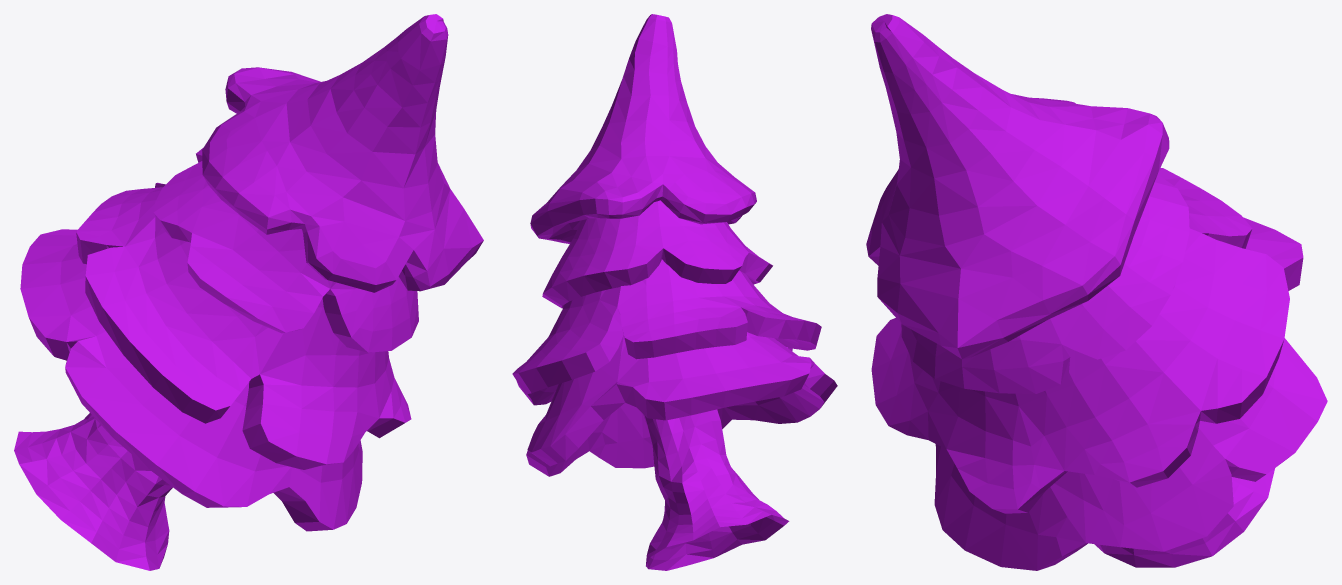
File: meowverse_tree2.glb
The picture shows the model from 3 angles, left to right: view 1: azimuth 30°, elevation 25°; view 2: azimuth 150°, elevation 25°; view 3: azimuth 270°, elevation 25°; orthographic projection. The views are drawn at different scales.
Visible parts, largest first — view 1: tree1v3.005; view 2: tree1v3.005; view 3: tree1v3.005.
Part boxes in pixels (<box>): tree1v3.005: <box>14,14,483,570</box>; tree1v3.005: <box>512,14,837,570</box>; tree1v3.005: <box>866,14,1327,570</box>.
Bounding box in the file's own units: 0.4544 × 0.6812 × 0.4504.
